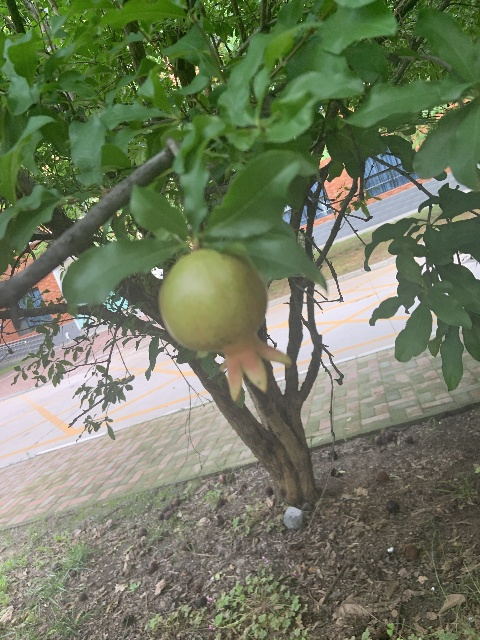mid-growth: (158, 248, 291, 403)
